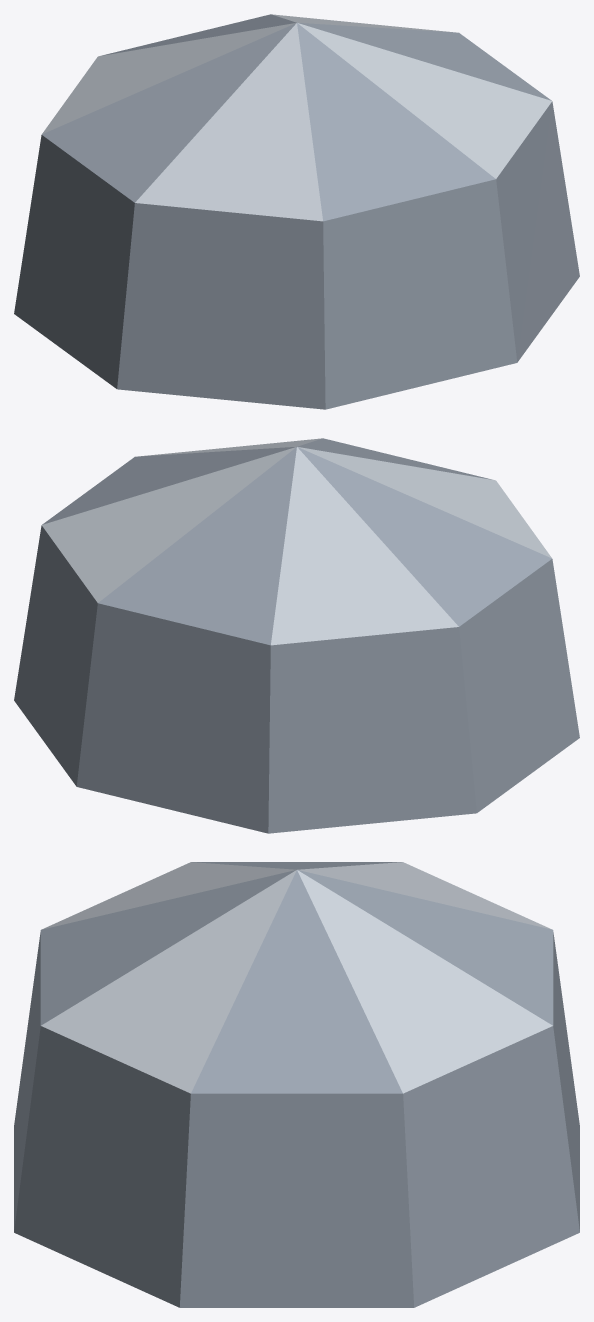
The model's file is Pauldron_Light.fbx.
3 views of the same model, one above another, from view 1: azimuth 30°, elevation 25°; view 2: azimuth 150°, elevation 25°; view 3: azimuth 270°, elevation 25° (orthographic). The views are drawn at different scales.
Visible parts, largest first — view 1: 03_Pauldron_Light; view 2: 03_Pauldron_Light; view 3: 03_Pauldron_Light.
Part boxes in pixels (x1,y1,x2,y2): 03_Pauldron_Light: (14, 14, 579, 409); 03_Pauldron_Light: (14, 438, 579, 833); 03_Pauldron_Light: (14, 862, 579, 1307).
Size of the model in its own units: 18.85 by 10.6 by 17.55.
